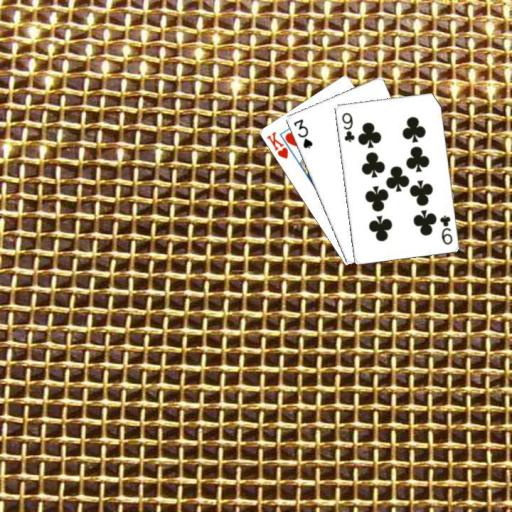3S: (290, 116, 314, 150)
9C: (339, 109, 356, 144), (437, 212, 454, 246)
KH: (263, 128, 290, 160)
